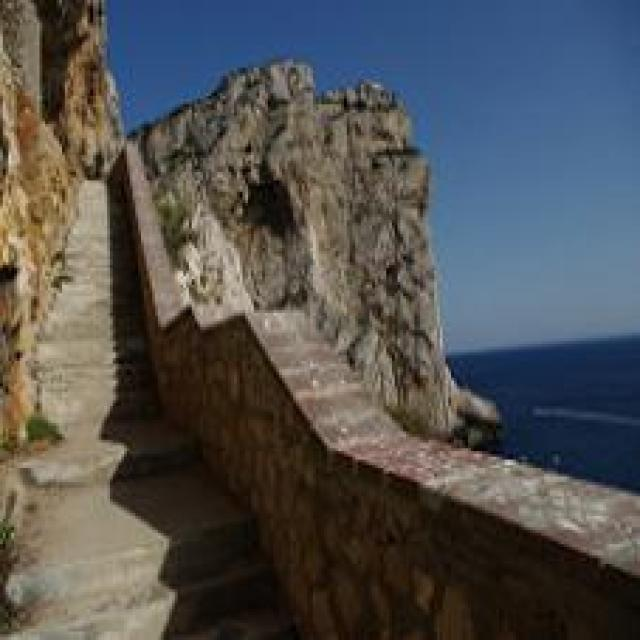upstair: (27, 243, 258, 630)
